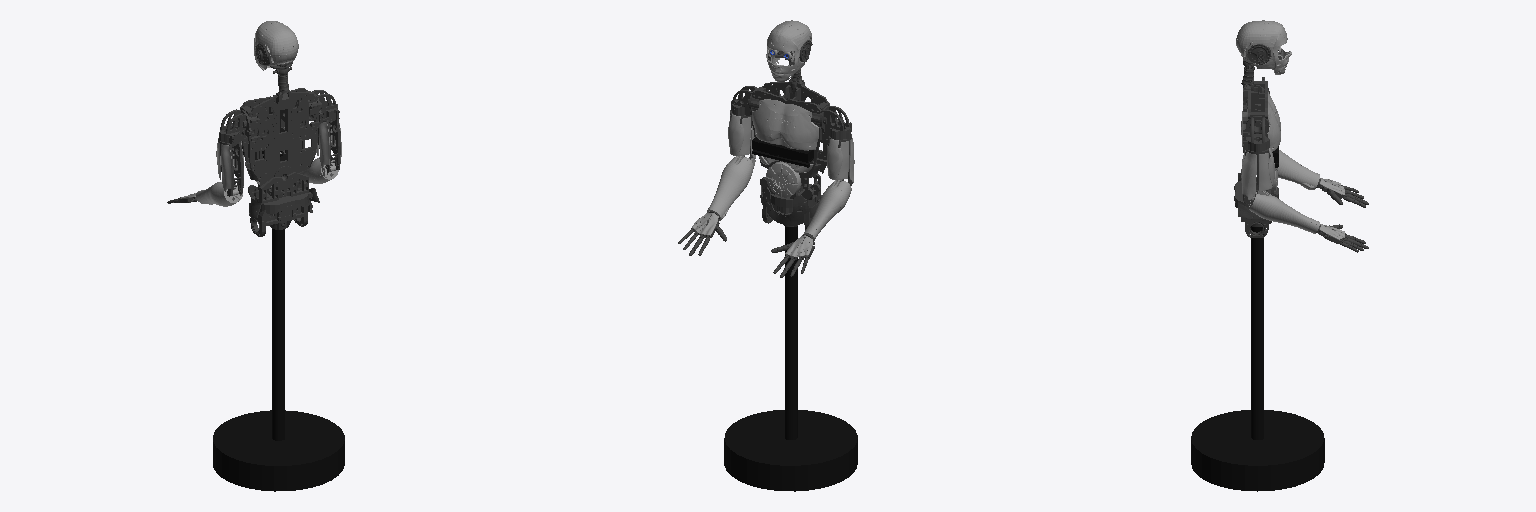
--- Facts derived from the render (not from the file) ---
3 views of the same robot in one strip: view 1: azimuth 30°, elevation 25°; view 2: azimuth 150°, elevation 25°; view 3: azimuth 270°, elevation 25° (orthographic).
Robot: inmoov — 70 links, 69 joints (51 revolute, 18 fixed); root link base_link; default pose: joints at zero except 2 at the middle of their limits (right_bicep = 1.16, left_bicep = 1.16).
Links seen in each view (by area): view 1: base_link, torso, pedestal, top_stomach, mid_stomach, skull, left_shoulder, left_forearm, left_bicepcover, left_bicep, right_bicepcover, right_forearm (+1 smaller); view 2: base_link, chestplate, pedestal, torso, skull, right_forearm, left_forearm, mid_stomach, left_bicepcover, kinect, disk, right_bicepcover (+3 smaller); view 3: base_link, pedestal, skull, right_forearm, right_bicepcover, left_forearm, torso, right_shoulder, mid_stomach, chestplate.
Boxes of the visible links, x1,y1,x2,y2 form: base_link: [213, 410, 344, 491]; torso: [240, 73, 317, 180]; pedestal: [272, 229, 284, 440]; top_stomach: [248, 166, 308, 209]; mid_stomach: [249, 188, 319, 236]; skull: [254, 21, 298, 69]; left_shoulder: [219, 109, 251, 144]; left_forearm: [196, 182, 242, 206]; left_bicepcover: [216, 141, 243, 191]; left_bicep: [218, 138, 242, 196]; right_bicepcover: [316, 122, 341, 167]; right_forearm: [300, 157, 338, 183]; base_link: [724, 410, 857, 491]; chestplate: [752, 99, 818, 172]; pedestal: [785, 226, 797, 439]; torso: [752, 69, 829, 177]; skull: [766, 20, 811, 73]; right_forearm: [707, 156, 755, 220]; left_forearm: [802, 180, 851, 240]; mid_stomach: [760, 186, 828, 229]; left_bicepcover: [827, 138, 854, 182]; kinect: [752, 137, 813, 167]; disk: [766, 161, 800, 197]; right_bicepcover: [728, 114, 755, 158]; base_link: [1191, 410, 1324, 491]; pedestal: [1251, 226, 1263, 439]; skull: [1236, 20, 1291, 68]; right_forearm: [1246, 191, 1319, 233]; right_bicepcover: [1241, 148, 1274, 199]; left_forearm: [1278, 150, 1319, 189]; torso: [1241, 67, 1267, 137]; right_shoulder: [1243, 116, 1269, 152]; mid_stomach: [1235, 173, 1278, 237]; chestplate: [1267, 92, 1280, 170].
Bounding box of the posed robot: 0.5611 × 0.6933 × 1.9 m (x, y, z).
Meshes: 50 distinct files referenced, 68 mesh visuals loaded (50 binary STL).

The robot description file, URDF, robot "inmoov":
<?xml version="1.0" ?>
<!-- =================================================================================== -->
<!-- |    This document was autogenerated by xacro from inmoov.urdf.xacro              | -->
<!-- |    EDITING THIS FILE BY HAND IS NOT RECOMMENDED                                 | -->
<!-- =================================================================================== -->
<robot name="inmoov" xmlns:xacro="http://ros.org/wiki/xacro">
  <link name="base_link">
    <visual>
      <geometry>
        <cylinder length="0.11" radius="0.26"/>
      </geometry>
      <origin rpy="0 0 0" xyz="0 0 0.055"/>
      <material name="cbase">
        <color rgba="0.1 0.1 0.1 1"/>
      </material>
    </visual>
  </link>
  <link name="pedestal">
    <visual>
      <geometry>
        <cylinder length="0.94" radius="0.0254"/>
      </geometry>
      <origin rpy="0 0 0" xyz="0 0 0.58"/>
      <material name="cbase">
        <color rgba="0.1 0.1 0.1 1"/>
      </material>
    </visual>
  </link>
  <link name="mid_stomach">
    <visual>
      <geometry>
        <mesh filename="package://inmoov_description/meshes/mid_stomach.stl" scale="0.001 0.001 0.001"/>
      </geometry>
      <origin rpy="0 0 0" xyz="0 0 1.152"/>
      <material name="cframe">
        <color rgba="0.3 0.3 0.3 1"/>
      </material>
    </visual>
  </link>
  <link name="disk">
    <visual>
      <geometry>
        <mesh filename="package://inmoov_description/meshes/disk.stl" scale="0.001 0.001 0.001"/>
      </geometry>
      <origin rpy="0 0 0" xyz="0 0.046 0"/>
      <material name="ccover">
        <color rgba="0.6 0.6 0.6 1"/>
      </material>
    </visual>
  </link>
  <link name="top_stomach">
    <visual>
      <geometry>
        <mesh filename="package://inmoov_description/meshes/top_stomach.stl" scale="0.001 0.001 0.001"/>
      </geometry>
      <origin rpy="0 0 0" xyz="0 0 0"/>
      <material name="cframe">
        <color rgba="0.3 0.3 0.3 1"/>
      </material>
    </visual>
  </link>
  <link name="torso">
    <visual>
      <geometry>
        <mesh filename="package://inmoov_description/meshes/torso.stl" scale="0.001 0.001 0.001"/>
      </geometry>
      <origin rpy="0 0 0" xyz="0 0 0"/>
      <material name="cframe">
        <color rgba="0.3 0.3 0.3 1"/>
      </material>
    </visual>
  </link>
  <link name="kinect">
    <visual>
      <geometry>
        <mesh filename="package://inmoov_description/meshes/kinectone.stl" scale="0.001 0.001 0.001"/>
      </geometry>
      <origin rpy="0 0 0" xyz="0 0 0"/>
      <material name="ckinect">
        <color rgba="0.1 0.1 0.1 1"/>
      </material>
    </visual>
  </link>
  <link name="chestplate">
    <visual>
      <geometry>
        <mesh filename="package://inmoov_description/meshes/chest.stl" scale="0.001 0.001 0.001"/>
      </geometry>
      <origin rpy="0 0 0" xyz="0 0 0"/>
      <material name="ccover">
        <color rgba="0.6 0.6 0.6 1"/>
      </material>
    </visual>
  </link>
  <link name="head_base">
    <visual>
      <geometry>
        <mesh filename="package://inmoov_description/meshes/head_base.stl" scale="0.001 0.001 0.001"/>
      </geometry>
      <origin rpy="0 0 0" xyz="0 0 0"/>
      <material name="cframe">
        <color rgba="0.3 0.3 0.3 1"/>
      </material>
    </visual>
  </link>
  <link name="head">
    <visual>
      <geometry>
        <mesh filename="package://inmoov_description/meshes/head.stl" scale="0.001 0.001 0.001"/>
      </geometry>
      <origin rpy="0 0 0" xyz="0 0 0"/>
      <material name="cframe">
        <color rgba="0.3 0.3 0.3 1"/>
      </material>
    </visual>
  </link>
  <link name="jaw">
    <visual>
      <geometry>
        <mesh filename="package://inmoov_description/meshes/jaw.stl" scale="0.001 0.001 0.001"/>
      </geometry>
      <origin rpy="0 0 0" xyz="0 0 0"/>
      <material name="ccover">
        <color rgba="0.6 0.6 0.6 1"/>
      </material>
    </visual>
  </link>
  <link name="skull">
    <visual>
      <geometry>
        <mesh filename="package://inmoov_description/meshes/skull.stl" scale="0.001 0.001 0.001"/>
      </geometry>
      <origin rpy="0 0 0" xyz="0.001 0 0"/>
      <material name="ccover">
        <color rgba="0.6 0.6 0.6 1"/>
      </material>
    </visual>
  </link>
  <link name="left_ear">
    <visual>
      <geometry>
        <mesh filename="package://inmoov_description/meshes/earleftv1.stl" scale="0.001 0.001 0.001"/>
      </geometry>
      <origin rpy="0 0 0" xyz="0 0 0"/>
      <material name="cframe">
        <color rgba="0.3 0.3 0.3 1"/>
      </material>
    </visual>
  </link>
  <link name="right_ear">
    <visual>
      <geometry>
        <mesh filename="package://inmoov_description/meshes/earrightv1.stl" scale="0.001 0.001 0.001"/>
      </geometry>
      <origin rpy="0 0 0" xyz="0 0 0"/>
      <material name="cframe">
        <color rgba="0.3 0.3 0.3 1"/>
      </material>
    </visual>
  </link>
  <link name="left_eye">
    <visual>
      <geometry>
        <mesh filename="package://inmoov_description/meshes/eye.stl" scale="0.001 0.001 0.001"/>
      </geometry>
      <origin rpy="0 0 0" xyz="0 0 0"/>
      <material name="ccover">
        <color rgba="0.6 0.6 0.6 1"/>
      </material>
    </visual>
  </link>
  <link name="left_iris">
    <visual>
      <geometry>
        <mesh filename="package://inmoov_description/meshes/iris.stl" scale="0.001 0.001 0.001"/>
      </geometry>
      <origin rpy="0 0 0" xyz="0 0 0"/>
      <material name="chighlight">
        <color rgba="0.25 0.41 0.88 1"/>
      </material>
    </visual>
  </link>
  <link name="right_eye">
    <visual>
      <geometry>
        <mesh filename="package://inmoov_description/meshes/eye.stl" scale="0.001 0.001 0.001"/>
      </geometry>
      <origin rpy="0 0 0" xyz="0 0 0"/>
      <material name="ccover">
        <color rgba="0.6 0.6 0.6 1"/>
      </material>
    </visual>
  </link>
  <link name="right_iris">
    <visual>
      <geometry>
        <mesh filename="package://inmoov_description/meshes/iris.stl" scale="0.001 0.001 0.001"/>
      </geometry>
      <origin rpy="0 0 0" xyz="0 0 0"/>
      <material name="chighlight">
        <color rgba="0.25 0.41 0.88 1"/>
      </material>
    </visual>
  </link>
  <link name="right_shoulder_base">
    <visual>
      <geometry>
        <mesh filename="package://inmoov_description/meshes/right_shoulder_base.stl" scale="0.001 0.001 0.001"/>
      </geometry>
      <origin rpy="0 0 3.1415" xyz="0 0 0"/>
      <material name="cframe">
        <color rgba="0.3 0.3 0.3 1"/>
      </material>
    </visual>
  </link>
  <link name="right_shoulder">
    <visual>
      <geometry>
        <mesh filename="package://inmoov_description/meshes/right_shoulder.stl" scale="0.001 0.001 0.001"/>
      </geometry>
      <origin rpy="0 0 0" xyz="0 0 0"/>
      <material name="cframe">
        <color rgba="0.3 0.3 0.3 1"/>
      </material>
    </visual>
  </link>
  <link name="right_bicep">
    <visual>
      <geometry>
        <mesh filename="package://inmoov_description/meshes/bicep.stl" scale="0.001 0.001 0.001"/>
      </geometry>
      <origin rpy="0 0 0" xyz="0 0 0"/>
      <material name="cframe">
        <color rgba="0.3 0.3 0.3 1"/>
      </material>
    </visual>
  </link>
  <link name="right_bicepcover">
    <visual>
      <geometry>
        <mesh filename="package://inmoov_description/meshes/bicepcover.stl" scale="0.001 0.001 0.001"/>
      </geometry>
      <origin rpy="0 0 0" xyz="0 0 0"/>
      <material name="ccover">
        <color rgba="0.6 0.6 0.6 1"/>
      </material>
    </visual>
  </link>
  <link name="right_forearm">
    <visual>
      <geometry>
        <mesh filename="package://inmoov_description/meshes/right_forearm.stl" scale="0.001 0.001 0.001"/>
      </geometry>
      <origin rpy="0 0 0" xyz="0 0 0"/>
      <material name="ccover">
        <color rgba="0.6 0.6 0.6 1"/>
      </material>
    </visual>
  </link>
  <link name="right_hand">
    <visual>
      <geometry>
        <mesh filename="package://inmoov_description/meshes/right_hand.stl" scale="0.001 0.001 0.001"/>
      </geometry>
      <origin rpy="0 0 0" xyz="0 0 0"/>
      <material name="cframe">
        <color rgba="0.3 0.3 0.3 1"/>
      </material>
    </visual>
  </link>
  <link name="right_handcover">
    <visual>
      <geometry>
        <mesh filename="package://inmoov_description/meshes/right_cover_hand.stl" scale="0.001 0.001 0.001"/>
      </geometry>
      <origin rpy="0 0 0" xyz="0 0 0"/>
      <material name="ccover">
        <color rgba="0.6 0.6 0.6 1"/>
      </material>
    </visual>
  </link>
  <link name="right_thumb1">
    <visual>
      <geometry>
        <mesh filename="package://inmoov_description/meshes/right_thumb5_1.stl" scale="0.001 0.001 0.001"/>
      </geometry>
      <origin rpy="0 0 0" xyz="0 0 0"/>
      <material name="cframe">
        <color rgba="0.3 0.3 0.3 1"/>
      </material>
    </visual>
  </link>
  <link name="right_thumb2">
    <visual>
      <geometry>
        <mesh filename="package://inmoov_description/meshes/thumb5_2.stl" scale="0.001 0.001 0.001"/>
      </geometry>
      <origin rpy="0 0 0" xyz="0 0 0"/>
      <material name="cframe">
        <color rgba="0.3 0.3 0.3 1"/>
      </material>
    </visual>
  </link>
  <link name="right_thumb3">
    <visual>
      <geometry>
        <mesh filename="package://inmoov_description/meshes/thumb5_3.stl" scale="0.001 0.001 0.001"/>
      </geometry>
      <origin rpy="0 0 0" xyz="0 0 0"/>
      <material name="cframe">
        <color rgba="0.3 0.3 0.3 1"/>
      </material>
    </visual>
  </link>
  <link name="right_index1">
    <visual>
      <geometry>
        <mesh filename="package://inmoov_description/meshes/index3_1.stl" scale="0.001 0.001 0.001"/>
      </geometry>
      <origin rpy="0 0 0" xyz="0 0 0"/>
      <material name="cframe">
        <color rgba="0.3 0.3 0.3 1"/>
      </material>
    </visual>
  </link>
  <link name="right_index2">
    <visual>
      <geometry>
        <mesh filename="package://inmoov_description/meshes/index3_2.stl" scale="0.001 0.001 0.001"/>
      </geometry>
      <origin rpy="0 0 0" xyz="0 0 0"/>
      <material name="cframe">
        <color rgba="0.3 0.3 0.3 1"/>
      </material>
    </visual>
  </link>
  <link name="right_index3">
    <visual>
      <geometry>
        <mesh filename="package://inmoov_description/meshes/index3_3.stl" scale="0.001 0.001 0.001"/>
      </geometry>
      <origin rpy="0 0 0" xyz="0 0 0"/>
      <material name="cframe">
        <color rgba="0.3 0.3 0.3 1"/>
      </material>
    </visual>
  </link>
  <link name="right_middle1">
    <visual>
      <geometry>
        <mesh filename="package://inmoov_description/meshes/middle3_1.stl" scale="0.001 0.001 0.001"/>
      </geometry>
      <origin rpy="0 0 0" xyz="0 0 0"/>
      <material name="cframe">
        <color rgba="0.3 0.3 0.3 1"/>
      </material>
    </visual>
  </link>
  <link name="right_middle2">
    <visual>
      <geometry>
        <mesh filename="package://inmoov_description/meshes/middle3_2.stl" scale="0.001 0.001 0.001"/>
      </geometry>
      <origin rpy="0 0 0" xyz="0 0 0"/>
      <material name="cframe">
        <color rgba="0.3 0.3 0.3 1"/>
      </material>
    </visual>
  </link>
  <link name="right_middle3">
    <visual>
      <geometry>
        <mesh filename="package://inmoov_description/meshes/middle3_3.stl" scale="0.001 0.001 0.001"/>
      </geometry>
      <origin rpy="0 0 0" xyz="0 0 0"/>
      <material name="cframe">
        <color rgba="0.3 0.3 0.3 1"/>
      </material>
    </visual>
  </link>
  <link name="right_ring1">
    <visual>
      <geometry>
        <mesh filename="package://inmoov_description/meshes/right_ring3_1.stl" scale="0.001 0.001 0.001"/>
      </geometry>
      <origin rpy="0 0 0" xyz="0 0 0"/>
      <material name="cframe">
        <color rgba="0.3 0.3 0.3 1"/>
      </material>
    </visual>
  </link>
  <link name="right_cover_handring">
    <visual>
      <geometry>
        <mesh filename="package://inmoov_description/meshes/right_cover_handring.stl" scale="0.001 0.001 0.001"/>
      </geometry>
      <origin rpy="0 0 0" xyz="0 0 0"/>
      <material name="ccover">
        <color rgba="0.6 0.6 0.6 1"/>
      </material>
    </visual>
  </link>
  <link name="right_ring2">
    <visual>
      <geometry>
        <mesh filename="package://inmoov_description/meshes/ring3_2.stl" scale="0.001 0.001 0.001"/>
      </geometry>
      <origin rpy="0 0 0" xyz="0 0 0"/>
      <material name="cframe">
        <color rgba="0.3 0.3 0.3 1"/>
      </material>
    </visual>
  </link>
  <link name="right_ring3">
    <visual>
      <geometry>
        <mesh filename="package://inmoov_description/meshes/ring3_3.stl" scale="0.001 0.001 0.001"/>
      </geometry>
      <origin rpy="0 0 0" xyz="0 0 0"/>
      <material name="cframe">
        <color rgba="0.3 0.3 0.3 1"/>
      </material>
    </visual>
  </link>
  <link name="right_ring4">
    <visual>
      <geometry>
        <mesh filename="package://inmoov_description/meshes/ring3_4.stl" scale="0.001 0.001 0.001"/>
      </geometry>
      <origin rpy="0 0 0" xyz="0 0 0"/>
      <material name="cframe">
        <color rgba="0.3 0.3 0.3 1"/>
      </material>
    </visual>
  </link>
  <link name="right_pinky1">
    <visual>
      <geometry>
        <mesh filename="package://inmoov_description/meshes/right_pinky3_1.stl" scale="0.001 0.001 0.001"/>
      </geometry>
      <origin rpy="0 0 0" xyz="0 0 0"/>
      <material name="cframe">
        <color rgba="0.3 0.3 0.3 1"/>
      </material>
    </visual>
  </link>
  <link name="right_cover_handpinky">
    <visual>
      <geometry>
        <mesh filename="package://inmoov_description/meshes/right_cover_handpinky.stl" scale="0.001 0.001 0.001"/>
      </geometry>
      <origin rpy="0 0 0" xyz="0 0 0"/>
      <material name="ccover">
        <color rgba="0.6 0.6 0.6 1"/>
      </material>
    </visual>
  </link>
  <link name="right_pinky2">
    <visual>
      <geometry>
        <mesh filename="package://inmoov_description/meshes/pinky3_2.stl" scale="0.001 0.001 0.001"/>
      </geometry>
      <origin rpy="0 0 0" xyz="0 0 0"/>
      <material name="cframe">
        <color rgba="0.3 0.3 0.3 1"/>
      </material>
    </visual>
  </link>
  <link name="right_pinky3">
    <visual>
      <geometry>
        <mesh filename="package://inmoov_description/meshes/pinky3_3.stl" scale="0.001 0.001 0.001"/>
      </geometry>
      <origin rpy="0 0 0" xyz="0 0 0"/>
      <material name="cframe">
        <color rgba="0.3 0.3 0.3 1"/>
      </material>
    </visual>
  </link>
  <link name="right_pinky4">
    <visual>
      <geometry>
        <mesh filename="package://inmoov_description/meshes/pinky3_4.stl" scale="0.001 0.001 0.001"/>
      </geometry>
      <origin rpy="0 0 0" xyz="0 0 0"/>
      <material name="cframe">
        <color rgba="0.3 0.3 0.3 1"/>
      </material>
    </visual>
  </link>
  <link name="left_shoulder_base">
    <visual>
      <geometry>
        <mesh filename="package://inmoov_description/meshes/left_shoulder_base.stl" scale="0.001 0.001 0.001"/>
      </geometry>
      <origin rpy="0 0 0" xyz="0 0 0"/>
      <material name="cframe">
        <color rgba="0.3 0.3 0.3 1"/>
      </material>
    </visual>
  </link>
  <link name="left_shoulder">
    <visual>
      <geometry>
        <mesh filename="package://inmoov_description/meshes/left_shoulder.stl" scale="0.001 0.001 0.001"/>
      </geometry>
      <origin rpy="0 0 0" xyz="0 0 0"/>
      <material name="cframe">
        <color rgba="0.3 0.3 0.3 1"/>
      </material>
    </visual>
  </link>
  <link name="left_bicep">
    <visual>
      <geometry>
        <mesh filename="package://inmoov_description/meshes/bicep.stl" scale="0.001 0.001 0.001"/>
      </geometry>
      <origin rpy="0 0 0" xyz="0 0 0"/>
      <material name="cframe">
        <color rgba="0.3 0.3 0.3 1"/>
      </material>
    </visual>
  </link>
  <link name="left_bicepcover">
    <visual>
      <geometry>
        <mesh filename="package://inmoov_description/meshes/bicepcover.stl" scale="0.001 0.001 0.001"/>
      </geometry>
      <origin rpy="0 0 0" xyz="0 0 0"/>
      <material name="ccover">
        <color rgba="0.6 0.6 0.6 1"/>
      </material>
    </visual>
  </link>
  <link name="left_forearm">
    <visual>
      <geometry>
        <mesh filename="package://inmoov_description/meshes/left_forearm.stl" scale="0.001 0.001 0.001"/>
      </geometry>
      <origin rpy="0 0 0" xyz="0 0 0"/>
      <material name="ccover">
        <color rgba="0.6 0.6 0.6 1"/>
      </material>
    </visual>
  </link>
  <link name="left_hand">
    <visual>
      <geometry>
        <mesh filename="package://inmoov_description/meshes/left_hand.stl" scale="0.001 0.001 0.001"/>
      </geometry>
      <origin rpy="0 0 0" xyz="0 0 0"/>
      <material name="cframe">
        <color rgba="0.3 0.3 0.3 1"/>
      </material>
    </visual>
  </link>
  <link name="left_handcover">
    <visual>
      <geometry>
        <mesh filename="package://inmoov_description/meshes/left_cover_hand.stl" scale="0.001 0.001 0.001"/>
      </geometry>
      <origin rpy="0 0 0" xyz="0 0 0"/>
      <material name="ccover">
        <color rgba="0.6 0.6 0.6 1"/>
      </material>
    </visual>
  </link>
  <link name="left_thumb1">
    <visual>
      <geometry>
        <mesh filename="package://inmoov_description/meshes/left_thumb5_1.stl" scale="0.001 0.001 0.001"/>
      </geometry>
      <origin rpy="0 0 0" xyz="0 0 0"/>
      <material name="cframe">
        <color rgba="0.3 0.3 0.3 1"/>
      </material>
    </visual>
  </link>
  <link name="left_thumb2">
    <visual>
      <geometry>
        <mesh filename="package://inmoov_description/meshes/thumb5_2.stl" scale="0.001 0.001 0.001"/>
      </geometry>
      <origin rpy="0 0 0" xyz="0 0 0"/>
      <material name="cframe">
        <color rgba="0.3 0.3 0.3 1"/>
      </material>
    </visual>
  </link>
  <link name="left_thumb3">
    <visual>
      <geometry>
        <mesh filename="package://inmoov_description/meshes/thumb5_3.stl" scale="0.001 0.001 0.001"/>
      </geometry>
      <origin rpy="0 0 0" xyz="0 0 0"/>
      <material name="cframe">
        <color rgba="0.3 0.3 0.3 1"/>
      </material>
    </visual>
  </link>
  <link name="left_index1">
    <visual>
      <geometry>
        <mesh filename="package://inmoov_description/meshes/index3_1.stl" scale="0.001 0.001 0.001"/>
      </geometry>
      <origin rpy="0 0 0" xyz="0 0 0"/>
      <material name="cframe">
        <color rgba="0.3 0.3 0.3 1"/>
      </material>
    </visual>
  </link>
  <link name="left_index2">
    <visual>
      <geometry>
        <mesh filename="package://inmoov_description/meshes/index3_2.stl" scale="0.001 0.001 0.001"/>
      </geometry>
      <origin rpy="0 0 0" xyz="0 0 0"/>
      <material name="cframe">
        <color rgba="0.3 0.3 0.3 1"/>
      </material>
    </visual>
  </link>
  <link name="left_index3">
    <visual>
      <geometry>
        <mesh filename="package://inmoov_description/meshes/index3_3.stl" scale="0.001 0.001 0.001"/>
      </geometry>
      <origin rpy="0 0 0" xyz="0 0 0"/>
      <material name="cframe">
        <color rgba="0.3 0.3 0.3 1"/>
      </material>
    </visual>
  </link>
  <link name="left_middle1">
    <visual>
      <geometry>
        <mesh filename="package://inmoov_description/meshes/middle3_1.stl" scale="0.001 0.001 0.001"/>
      </geometry>
      <origin rpy="0 0 0" xyz="0 0 0"/>
      <material name="cframe">
        <color rgba="0.3 0.3 0.3 1"/>
      </material>
    </visual>
  </link>
  <link name="left_middle2">
    <visual>
      <geometry>
        <mesh filename="package://inmoov_description/meshes/middle3_2.stl" scale="0.001 0.001 0.001"/>
      </geometry>
      <origin rpy="0 0 0" xyz="0 0 0"/>
      <material name="cframe">
        <color rgba="0.3 0.3 0.3 1"/>
      </material>
    </visual>
  </link>
  <link name="left_middle3">
    <visual>
      <geometry>
        <mesh filename="package://inmoov_description/meshes/middle3_3.stl" scale="0.001 0.001 0.001"/>
      </geometry>
      <origin rpy="0 0 0" xyz="0 0 0"/>
      <material name="cframe">
        <color rgba="0.3 0.3 0.3 1"/>
      </material>
    </visual>
  </link>
  <link name="left_ring1">
    <visual>
      <geometry>
        <mesh filename="package://inmoov_description/meshes/left_ring3_1.stl" scale="0.001 0.001 0.001"/>
      </geometry>
      <origin rpy="0 0 0" xyz="0 0 0"/>
      <material name="cframe">
        <color rgba="0.3 0.3 0.3 1"/>
      </material>
    </visual>
  </link>
  <link name="left_cover_handring">
    <visual>
      <geometry>
        <mesh filename="package://inmoov_description/meshes/left_cover_handring.stl" scale="0.001 0.001 0.001"/>
      </geometry>
      <origin rpy="0 0 0" xyz="0 0 0"/>
      <material name="ccover">
        <color rgba="0.6 0.6 0.6 1"/>
      </material>
    </visual>
  </link>
  <link name="left_ring2">
    <visual>
      <geometry>
        <mesh filename="package://inmoov_description/meshes/ring3_2.stl" scale="0.001 0.001 0.001"/>
      </geometry>
      <origin rpy="0 0 0" xyz="0 0 0"/>
      <material name="cframe">
        <color rgba="0.3 0.3 0.3 1"/>
      </material>
    </visual>
  </link>
  <link name="left_ring3">
    <visual>
      <geometry>
        <mesh filename="package://inmoov_description/meshes/ring3_3.stl" scale="0.001 0.001 0.001"/>
      </geometry>
      <origin rpy="0 0 0" xyz="0 0 0"/>
      <material name="cframe">
        <color rgba="0.3 0.3 0.3 1"/>
      </material>
    </visual>
  </link>
  <link name="left_ring4">
    <visual>
      <geometry>
        <mesh filename="package://inmoov_description/meshes/ring3_4.stl" scale="0.001 0.001 0.001"/>
      </geometry>
      <origin rpy="0 0 0" xyz="0 0 0"/>
      <material name="cframe">
        <color rgba="0.3 0.3 0.3 1"/>
      </material>
    </visual>
  </link>
  <link name="left_pinky1">
    <visual>
      <geometry>
        <mesh filename="package://inmoov_description/meshes/left_pinky3_1.stl" scale="0.001 0.001 0.001"/>
      </geometry>
      <origin rpy="0 0 0" xyz="0 0 0"/>
      <material name="cframe">
        <color rgba="0.3 0.3 0.3 1"/>
      </material>
    </visual>
  </link>
  <link name="left_cover_handpinky">
    <visual>
      <geometry>
        <mesh filename="package://inmoov_description/meshes/left_cover_handpinky.stl" scale="0.001 0.001 0.001"/>
      </geometry>
      <origin rpy="0 0 0" xyz="0 0 0"/>
      <material name="ccover">
        <color rgba="0.6 0.6 0.6 1"/>
      </material>
    </visual>
  </link>
  <link name="left_pinky2">
    <visual>
      <geometry>
        <mesh filename="package://inmoov_description/meshes/pinky3_2.stl" scale="0.001 0.001 0.001"/>
      </geometry>
      <origin rpy="0 0 0" xyz="0 0 0"/>
      <material name="cframe">
        <color rgba="0.3 0.3 0.3 1"/>
      </material>
    </visual>
  </link>
  <link name="left_pinky3">
    <visual>
      <geometry>
        <mesh filename="package://inmoov_description/meshes/pinky3_3.stl" scale="0.001 0.001 0.001"/>
      </geometry>
      <origin rpy="0 0 0" xyz="0 0 0"/>
      <material name="cframe">
        <color rgba="0.3 0.3 0.3 1"/>
      </material>
    </visual>
  </link>
  <link name="left_pinky4">
    <visual>
      <geometry>
        <mesh filename="package://inmoov_description/meshes/pinky3_4.stl" scale="0.001 0.001 0.001"/>
      </geometry>
      <origin rpy="0 0 0" xyz="0 0 0"/>
      <material name="cframe">
        <color rgba="0.3 0.3 0.3 1"/>
      </material>
    </visual>
  </link>
  <joint name="base_to_pedestal" type="fixed">
    <parent link="base_link"/>
    <child link="pedestal"/>
    <origin rpy="0 0 0" xyz="0 0 0"/>
  </joint>
  <joint name="pedestal_to_mid_stomach" type="fixed">
    <parent link="pedestal"/>
    <child link="mid_stomach"/>
    <origin rpy="0 0 0" xyz="0 0 0"/>
  </joint>
  <joint name="waist_rotate" type="revolute">
    <axis xyz="0 0 1"/>
    <limit effort="1000.0" lower="-1.57" upper="1.57" velocity="0.5"/>
    <origin rpy="0 0 0" xyz="0 0 1.152"/>
    <parent link="mid_stomach"/>
    <child link="top_stomach"/>
  </joint>
  <joint name="disk" type="fixed">
    <origin rpy="0 0 0" xyz="0 0 0.09"/>
    <parent link="top_stomach"/>
    <child link="disk"/>
  </joint>
  <joint name="waist_lean" type="revolute">
    <axis xyz="0 1 0"/>
    <limit effort="1000.0" lower="-0.30" upper="0.30" velocity="0.5"/>
    <origin rpy="0 0 0" xyz="0 0 0.11"/>
    <parent link="top_stomach"/>
    <child link="torso"/>
  </joint>
  <joint name="head_updown" type="revolute">
    <axis xyz="1 0 0"/>
    <limit effort="1000.0" lower="-0.30" upper="0.30" velocity="0.5"/>
    <origin rpy="0 0 0" xyz="-0.001 -0.0315 0.4551"/>
    <parent link="torso"/>
    <child link="head_base"/>
  </joint>
  <joint name="head_leftright" type="revolute">
    <axis xyz="0 0 1"/>
    <limit effort="1000.0" lower="-1.57" upper="1.57" velocity="0.5"/>
    <origin rpy="0 0 0" xyz="0 0 0.0245"/>
    <parent link="head_base"/>
    <child link="head"/>
  </joint>
  <joint name="jaw" type="revolute">
    <axis xyz="1 0 0"/>
    <limit effort="1000.0" lower="0" upper="-0.15" velocity="0.5"/>
    <origin rpy="-0.08 0 0" xyz="-0.001 0.0375 0.0437"/>
    <parent link="head"/>
    <child link="jaw"/>
  </joint>
  <joint name="skull" type="fixed">
    <origin rpy="0 0 0" xyz="-0.001 0.05 -0.022"/>
    <parent link="head"/>
    <child link="skull"/>
  </joint>
  <joint name="left_ear" type="fixed">
    <origin rpy="0 0 0" xyz="-0.059 0.037 0.046"/>
    <parent link="head"/>
    <child link="left_ear"/>
  </joint>
  <joint name="right_ear" type="fixed">
    <origin rpy="0 0 0" xyz="0.053 0.037 0.046"/>
    <parent link="head"/>
    <child link="right_ear"/>
  </joint>
  <joint name="left_eye" type="revolute">
    <axis xyz="1 0 0"/>
    <limit effort="1000.0" lower="-0.75" upper="0.75" velocity="0.5"/>
    <origin rpy="0 0 0" xyz="0.032 0.115 0.05"/>
    <parent link="head"/>
    <child link="left_eye"/>
  </joint>
  <joint name="left_iris" type="fixed">
    <origin rpy="0 0 0" xyz="0 0.003 0"/>
    <parent link="left_eye"/>
    <child link="left_iris"/>
  </joint>
  <joint name="right_eye" type="revolute">
    <axis xyz="1 0 0"/>
    <limit effort="1000.0" lower="-0.75" upper="0.75" velocity="0.5"/>
    <origin rpy="0 0 0" xyz="-0.032 0.115 0.05"/>
    <parent link="head"/>
    <child link="right_eye"/>
  </joint>
  <joint name="right_iris" type="fixed">
    <origin rpy="0 0 0" xyz="0 0.003 0"/>
    <parent link="right_eye"/>
    <child link="right_iris"/>
  </joint>
  <joint name="chestplate" type="fixed">
    <origin rpy="0 0 0" xyz="0 0.039 0.025"/>
    <parent link="torso"/>
    <child link="chestplate"/>
  </joint>
  <joint name="kinect" type="fixed">
    <origin rpy="0 0 0" xyz="0 0 0.066"/>
    <parent link="torso"/>
    <child link="kinect"/>
  </joint>
  <joint name="right_shoulder_side" type="revolute">
    <axis xyz="0 1 0"/>
    <limit effort="1000.0" lower="0" upper="0.75" velocity="0.5"/>
    <origin rpy="0 0 3.1415" xyz="0.143 0 0.298"/>
    <parent link="torso"/>
    <child link="right_shoulder_base"/>
  </joint>
  <joint name="right_shoulder_up" type="revolute">
    <axis xyz="1 0 0"/>
    <limit effort="1000.0" lower="0" upper="3.14" velocity="0.5"/>
    <origin rpy="0 0 3.1415" xyz="-0.012 0 -0.04"/>
    <parent link="right_shoulder_base"/>
    <child link="right_shoulder"/>
  </joint>
  <joint name="right_bicep_rotate" type="revolute">
    <axis xyz="0 0 1"/>
    <limit effort="1000.0" lower="-1.57" upper="1.57" velocity="0.5"/>
    <origin rpy="0 0 0" xyz="0.066 0 -0.060"/>
    <parent link="right_shoulder"/>
    <child link="right_bicep"/>
  </joint>
  <joint name="right_bicep" type="revolute">
    <axis xyz="1 0 0"/>
    <limit effort="1000.0" lower="0.75" upper="1.57" velocity="0.5"/>
    <origin rpy="0 0 0" xyz="0 -0.0278 -0.2235"/>
    <parent link="right_bicep"/>
    <child link="right_forearm"/>
  </joint>
  <joint name="right_bicepcover" type="fixed">
    <origin rpy="0 0 0" xyz="0 0 0"/>
    <parent link="right_bicep"/>
    <child link="right_bicepcover"/>
  </joint>
  <joint name="right_hand" type="revolute">
    <axis xyz="0 0 1"/>
    <limit effort="1000.0" lower="-3.14" upper="0" velocity="0.5"/>
    <origin rpy="0 0 0" xyz="-0.01 -0.0144 -0.2885"/>
    <parent link="right_forearm"/>
    <child link="right_hand"/>
  </joint>
  <joint name="right_handcover" type="fixed">
    <origin rpy="0 0 0" xyz="-0.0192 0.009 -0.0977"/>
    <parent link="right_hand"/>
    <child link="right_handcover"/>
  </joint>
  <joint name="right_thumb1" type="revolute">
    <axis xyz="0 0 1"/>
    <limit effort="1000.0" lower="0" upper="1.57" velocity="0.5"/>
    <origin rpy="0 0.1 0" xyz="-0.027 0 -0.0577"/>
    <parent link="right_hand"/>
    <child link="right_thumb1"/>
  </joint>
  <joint name="right_thumb2" type="revolute">
    <axis xyz="1 0 0"/>
    <limit effort="1000.0" lower="-1.57" upper="0" velocity="0.5"/>
    <origin rpy="0 0.82 0" xyz="-0.0285 0 -0.0115"/>
    <parent link="right_thumb1"/>
    <child link="right_thumb2"/>
  </joint>
  <joint name="right_thumb3" type="revolute">
    <axis xyz="1 0 0"/>
    <limit effort="1000.0" lower="-1.57" upper="0" velocity="0.5"/>
    <origin rpy="0 0 0" xyz="0 0 -0.035"/>
    <parent link="right_thumb2"/>
    <child link="right_thumb3"/>
  </joint>
  <joint name="right_index1" type="revolute">
    <axis xyz="1 0 0"/>
    <limit effort="1000.0" lower="-1.57" upper="0" velocity="0.5"/>
    <origin rpy="0 0.1 0" xyz="-0.0342 -0.0015 -0.119"/>
    <parent link="right_hand"/>
    <child link="right_index1"/>
  </joint>
  <joint name="right_index2" type="revolute">
    <axis xyz="1 0 0"/>
    <limit effort="1000.0" lower="-1.57" upper="0" velocity="0.5"/>
    <origin rpy="0 0 0" xyz="0 0.001 -0.03595"/>
    <parent link="right_index1"/>
    <child link="right_index2"/>
  </joint>
  <joint name="right_index3" type="revolute">
    <axis xyz="1 0 0"/>
    <limit effort="1000.0" lower="-1.57" upper="0" velocity="0.5"/>
    <origin rpy="0 0 0" xyz="0 0 -0.024"/>
    <parent link="right_index2"/>
    <child link="right_index3"/>
  </joint>
  <joint name="right_middle1" type="revolute">
    <axis xyz="1 0 0"/>
    <limit effort="1000.0" lower="-1.57" upper="0" velocity="0.5"/>
    <origin rpy="0 0 0" xyz="-0.007 -0.00175 -0.12325"/>
    <parent link="right_hand"/>
    <child link="right_middle1"/>
  </joint>
  <joint name="right_middle2" type="revolute">
    <axis xyz="1 0 0"/>
    <limit effort="1000.0" lower="-1.57" upper="0" velocity="0.5"/>
    <origin rpy="0 0 0" xyz="0 0.000 -0.0389"/>
    <parent link="right_middle1"/>
    <child link="right_middle2"/>
  </joint>
  <joint name="right_middle3" type="revolute">
    <axis xyz="1 0 0"/>
    <limit effort="1000.0" lower="-1.57" upper="0" velocity="0.5"/>
    <origin rpy="0 0 0" xyz="0 0.0005 -0.0259"/>
    <parent link="right_middle2"/>
    <child link="right_middle3"/>
  </joint>
  <joint name="right_ring1" type="revolute">
    <axis xyz="0 0 1"/>
    <limit effort="1000.0" lower="-1.57" upper="0" velocity="0.5"/>
    <origin rpy="0 0.7 0" xyz="0.00705 0 -0.0794"/>
    <parent link="right_hand"/>
    <child link="right_ring1"/>
  </joint>
  <joint name="right_cover_handring" type="fixed">
    <origin rpy="0 -0.7 0" xyz="0.015 0.009 -0.0008"/>
    <parent link="right_ring1"/>
    <child link="right_cover_handring"/>
  </joint>
  <joint name="right_cover_handpinky" type="fixed">
    <origin rpy="0 -0.7 0" xyz="0.0205 0.01 -0.0069"/>
    <parent link="right_pinky1"/>
    <child link="right_cover_handpinky"/>
  </joint>
  <joint name="right_ring2" type="revolute">
    <axis xyz="1 0 0"/>
    <limit effort="1000.0" lower="-1.57" upper="0" velocity="0.5"/>
    <origin rpy="0 -0.78 0" xyz="0.035 -.00125 -0.0167"/>
    <parent link="right_ring1"/>
    <child link="right_ring2"/>
  </joint>
  <joint name="right_ring3" type="revolute">
    <axis xyz="1 0 0"/>
    <limit effort="1000.0" lower="-1.57" upper="0" velocity="0.5"/>
    <origin rpy="0 0 0" xyz="0 0.0005 -0.0345"/>
    <parent link="right_ring2"/>
    <child link="right_ring3"/>
  </joint>
  <joint name="right_ring4" type="revolute">
    <axis xyz="1 0 0"/>
    <limit effort="1000.0" lower="-1.57" upper="0" velocity="0.5"/>
    <origin rpy="0 0 0" xyz="0 0.0004 -0.0229"/>
    <parent link="right_ring3"/>
    <child link="right_ring4"/>
  </joint>
  <joint name="right_pinky1" type="revolute">
    <axis xyz="0 0 1"/>
    <limit effort="1000.0" lower="-1.57" upper="0" velocity="0.5"/>
    <origin rpy="0 0.7 0" xyz="0.0270 0 -0.0555"/>
    <parent link="right_hand"/>
    <child link="right_pinky1"/>
  </joint>
  <joint name="right_pinky2" type="revolute">
    <axis xyz="1 0 0"/>
    <limit effort="1000.0" lower="-1.57" upper="0" velocity="0.5"/>
    <origin rpy="0 -0.93 0" xyz="0.046 0 -0.0228"/>
    <parent link="right_pinky1"/>
    <child link="right_pinky2"/>
  </joint>
  <joint name="right_pinky3" type="revolute">
    <axis xyz="1 0 0"/>
    <limit effort="1000.0" lower="-1.57" upper="0" velocity="0.5"/>
    <origin rpy="0 0 0" xyz="0 0.0005 -0.031"/>
    <parent link="right_pinky2"/>
    <child link="right_pinky3"/>
  </joint>
  <joint name="right_pinky4" type="revolute">
    <axis xyz="1 0 0"/>
    <limit effort="1000.0" lower="-1.57" upper="0" velocity="0.5"/>
    <origin rpy="0 0 0" xyz="0 0.0004 -0.0208"/>
    <parent link="right_pinky3"/>
    <child link="right_pinky4"/>
  </joint>
  <joint name="left_shoulder_side" type="revolute">
    <axis xyz="0 1 0"/>
    <limit effort="1000.0" lower="0" upper="0.75" velocity="0.5"/>
    <origin rpy="0 0 0" xyz="-0.143 0 0.298"/>
    <parent link="torso"/>
    <child link="left_shoulder_base"/>
  </joint>
  <joint name="left_shoulder_up" type="revolute">
    <axis xyz="1 0 0"/>
    <limit effort="1000.0" lower="0" upper="3.14" velocity="0.5"/>
    <origin rpy="0 0 0" xyz="-0.012 0 -0.04"/>
    <parent link="left_shoulder_base"/>
    <child link="left_shoulder"/>
  </joint>
  <joint name="left_bicep_rotate" type="revolute">
    <axis xyz="0 0 1"/>
    <limit effort="1000.0" lower="-1.57" upper="1.57" velocity="0.5"/>
    <origin rpy="0 0 0" xyz="-0.066 0 -0.06"/>
    <parent link="left_shoulder"/>
    <child link="left_bicep"/>
  </joint>
  <joint name="left_bicep" type="revolute">
    <axis xyz="1 0 0"/>
    <limit effort="1000.0" lower="0.75" upper="1.57" velocity="0.5"/>
    <origin rpy="0 0 0" xyz="0 -0.0278 -0.2235"/>
    <parent link="left_bicep"/>
    <child link="left_forearm"/>
  </joint>
  <joint name="left_bicepcover" type="fixed">
    <origin rpy="0 0 0" xyz="0 0 0"/>
    <parent link="left_bicep"/>
    <child link="left_bicepcover"/>
  </joint>
  <joint name="left_hand" type="revolute">
    <axis xyz="0 0 1"/>
    <limit effort="1000.0" lower="0" upper="3.14" velocity="0.5"/>
    <origin rpy="0 0 0" xyz="0.01 -0.0144 -0.2885"/>
    <parent link="left_forearm"/>
    <child link="left_hand"/>
  </joint>
  <joint name="left_handcover" type="fixed">
    <origin rpy="0 0 0" xyz="0.0192 0.009 -0.0977"/>
    <parent link="left_hand"/>
    <child link="left_handcover"/>
  </joint>
  <joint name="left_thumb1" type="revolute">
    <axis xyz="0 0 1"/>
    <limit effort="1000.0" lower="0" upper="-1.57" velocity="0.5"/>
    <origin rpy="0 -0.1 0" xyz="0.027 0 -0.0577"/>
    <parent link="left_hand"/>
    <child link="left_thumb1"/>
  </joint>
  <joint name="left_thumb2" type="revolute">
    <axis xyz="1 0 0"/>
    <limit effort="1000.0" lower="-1.57" upper="0" velocity="0.5"/>
    <origin rpy="0 -0.82 0" xyz="0.0285 0 -0.0115"/>
    <parent link="left_thumb1"/>
    <child link="left_thumb2"/>
  </joint>
  <joint name="left_thumb3" type="revolute">
    <axis xyz="1 0 0"/>
    <limit effort="1000.0" lower="-1.57" upper="0" velocity="0.5"/>
    <origin rpy="0 0 0" xyz="0 0 -0.035"/>
    <parent link="left_thumb2"/>
    <child link="left_thumb3"/>
  </joint>
  <joint name="left_index1" type="revolute">
    <axis xyz="1 0 0"/>
    <limit effort="1000.0" lower="-1.57" upper="0" velocity="0.5"/>
    <origin rpy="0 -0.1 0" xyz="0.0342 -0.0015 -0.119"/>
    <parent link="left_hand"/>
    <child link="left_index1"/>
  </joint>
  <joint name="left_index2" type="revolute">
    <axis xyz="1 0 0"/>
    <limit effort="1000.0" lower="-1.57" upper="0" velocity="0.5"/>
    <origin rpy="0 0 0" xyz="0 0.001 -0.03595"/>
    <parent link="left_index1"/>
    <child link="left_index2"/>
  </joint>
  <joint name="left_index3" type="revolute">
    <axis xyz="1 0 0"/>
    <limit effort="1000.0" lower="-1.57" upper="0" velocity="0.5"/>
    <origin rpy="0 0 0" xyz="0 0 -0.024"/>
    <parent link="left_index2"/>
    <child link="left_index3"/>
  </joint>
  <joint name="left_middle1" type="revolute">
    <axis xyz="1 0 0"/>
    <limit effort="1000.0" lower="-1.57" upper="0" velocity="0.5"/>
    <origin rpy="0 0 0" xyz="0.007 -0.00175 -0.12325"/>
    <parent link="left_hand"/>
    <child link="left_middle1"/>
  </joint>
  <joint name="left_middle2" type="revolute">
    <axis xyz="1 0 0"/>
    <limit effort="1000.0" lower="-1.57" upper="0" velocity="0.5"/>
    <origin rpy="0 0 0" xyz="0 0.000 -0.0389"/>
    <parent link="left_middle1"/>
    <child link="left_middle2"/>
  </joint>
  <joint name="left_middle3" type="revolute">
    <axis xyz="1 0 0"/>
    <limit effort="1000.0" lower="-1.57" upper="0" velocity="0.5"/>
    <origin rpy="0 0 0" xyz="0 0.0005 -0.0259"/>
    <parent link="left_middle2"/>
    <child link="left_middle3"/>
  </joint>
  <joint name="left_ring1" type="revolute">
    <axis xyz="0 0 1"/>
    <limit effort="1000.0" lower="0" upper="1.57" velocity="0.5"/>
    <origin rpy="0 -0.7 0" xyz="-0.0070 0 -0.0795"/>
    <parent link="left_hand"/>
    <child link="left_ring1"/>
  </joint>
  <joint name="left_cover_handring" type="fixed">
    <origin rpy="0 0.7 0" xyz="-0.015 0.009 -0.0008"/>
    <parent link="left_ring1"/>
    <child link="left_cover_handring"/>
  </joint>
  <joint name="left_cover_handpinky" type="fixed">
    <origin rpy="0 0.7 0" xyz="-0.0205 0.01 -0.0069"/>
    <parent link="left_pinky1"/>
    <child link="left_cover_handpinky"/>
  </joint>
  <joint name="left_ring2" type="revolute">
    <axis xyz="1 0 0"/>
    <limit effort="1000.0" lower="-1.57" upper="0" velocity="0.5"/>
    <origin rpy="0 0.78 0" xyz="-0.035 -.00125 -0.0167"/>
    <parent link="left_ring1"/>
    <child link="left_ring2"/>
  </joint>
  <joint name="left_ring3" type="revolute">
    <axis xyz="1 0 0"/>
    <limit effort="1000.0" lower="-1.57" upper="0" velocity="0.5"/>
    <origin rpy="0 0 0" xyz="0 0.0005 -0.0345"/>
    <parent link="left_ring2"/>
    <child link="left_ring3"/>
  </joint>
  <joint name="left_ring4" type="revolute">
    <axis xyz="1 0 0"/>
    <limit effort="1000.0" lower="-1.57" upper="0" velocity="0.5"/>
    <origin rpy="0 0 0" xyz="0 0.0004 -0.0229"/>
    <parent link="left_ring3"/>
    <child link="left_ring4"/>
  </joint>
  <joint name="left_pinky1" type="revolute">
    <axis xyz="0 0 1"/>
    <limit effort="1000.0" lower="0" upper="1.57" velocity="0.5"/>
    <origin rpy="0 -0.7 0" xyz="-0.0270 0 -0.0555"/>
    <parent link="left_hand"/>
    <child link="left_pinky1"/>
  </joint>
  <joint name="left_pinky2" type="revolute">
    <axis xyz="1 0 0"/>
    <limit effort="1000.0" lower="-1.57" upper="0" velocity="0.5"/>
    <origin rpy="0 0.93 0" xyz="-0.046 0 -0.0228"/>
    <parent link="left_pinky1"/>
    <child link="left_pinky2"/>
  </joint>
  <joint name="left_pinky3" type="revolute">
    <axis xyz="1 0 0"/>
    <limit effort="1000.0" lower="-1.57" upper="0" velocity="0.5"/>
    <origin rpy="0 0 0" xyz="0 0.0005 -0.031"/>
    <parent link="left_pinky2"/>
    <child link="left_pinky3"/>
  </joint>
  <joint name="left_pinky4" type="revolute">
    <axis xyz="1 0 0"/>
    <limit effort="1000.0" lower="-1.57" upper="0" velocity="0.5"/>
    <origin rpy="0 0 0" xyz="0 0.0004 -0.0208"/>
    <parent link="left_pinky3"/>
    <child link="left_pinky4"/>
  </joint>
</robot>
